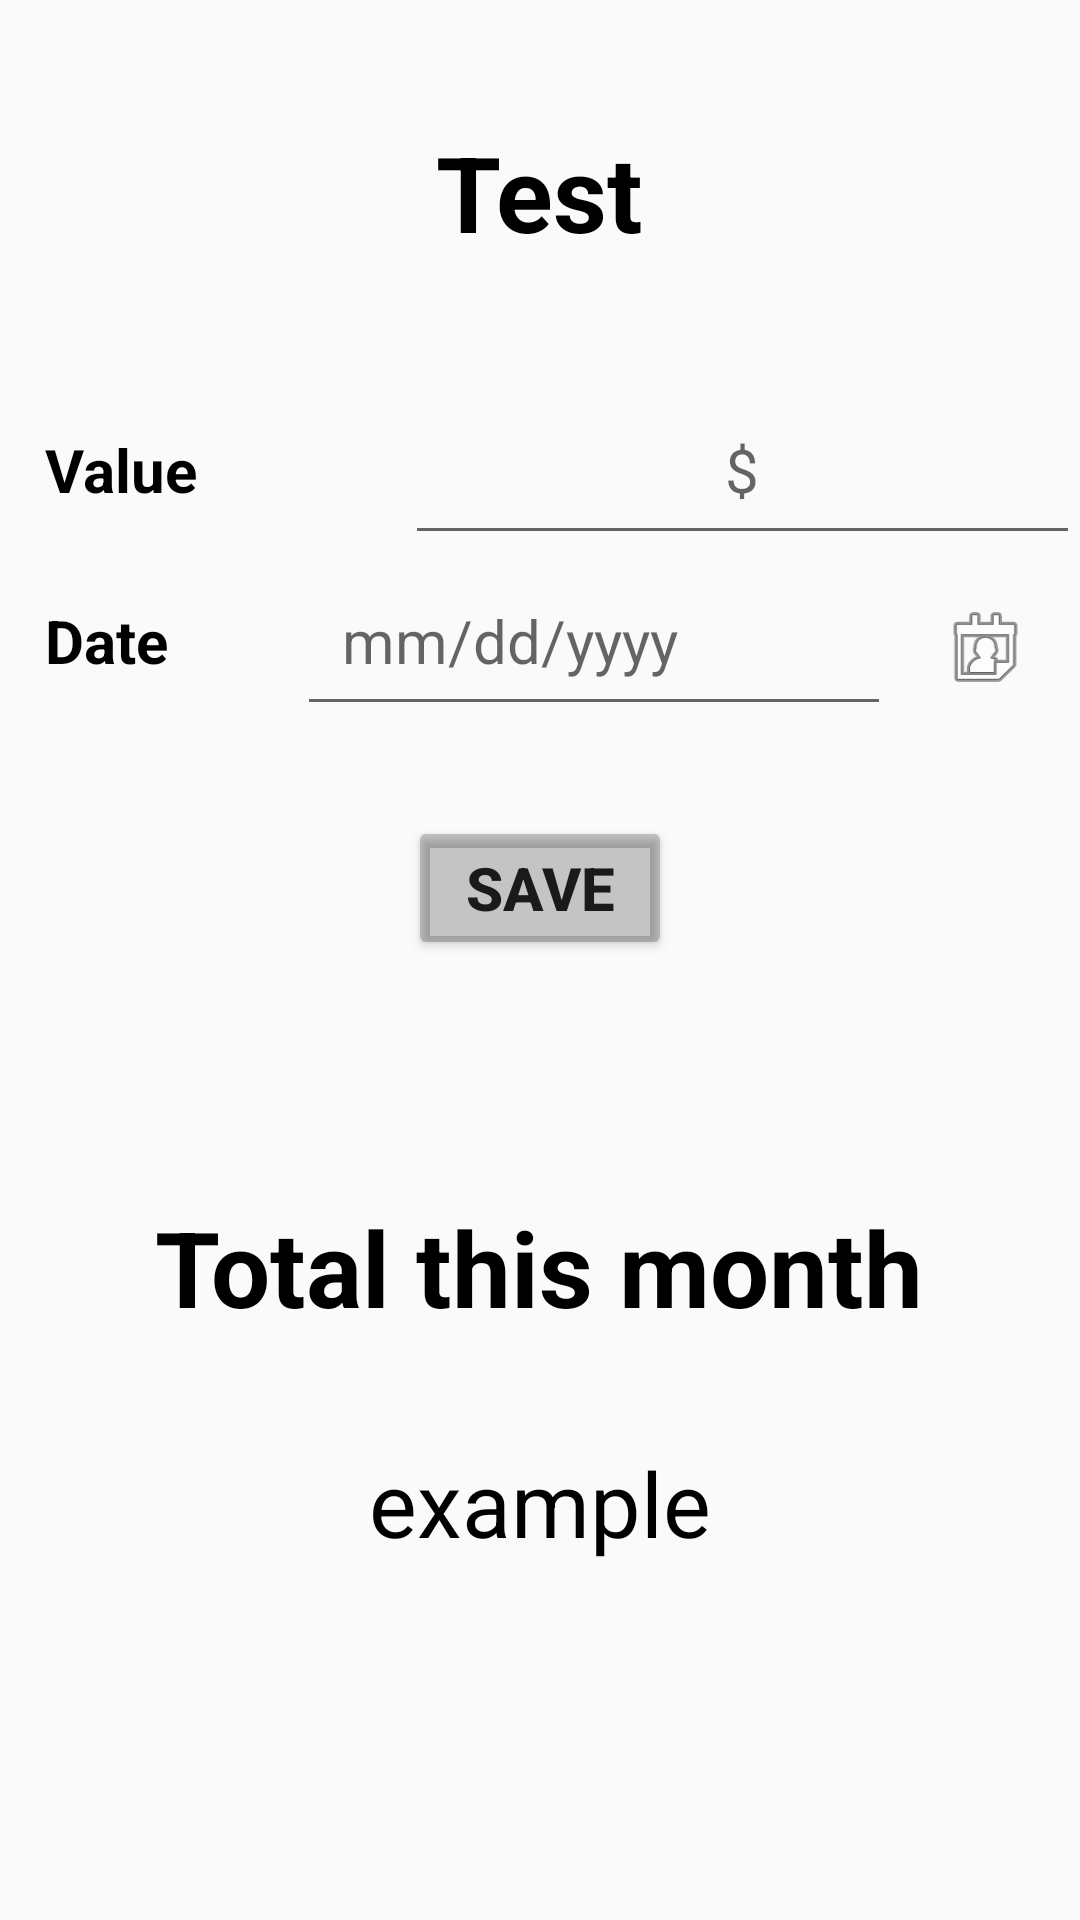

Named icons in this screenshot (1080w x 1920h) and their bounding boxes, detection(x1, y1, x2, y2):
calendar: detection(953, 612, 1018, 682)
